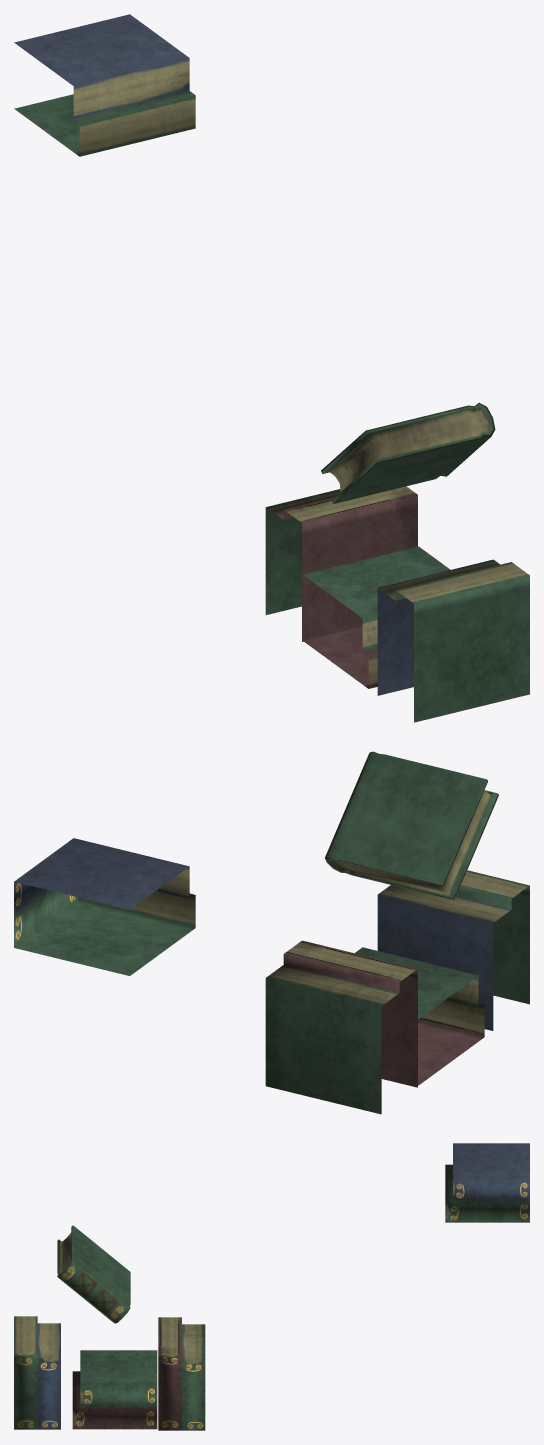
Rendered from BookCaseFill_C_01.fbx.
The picture shows the model from 3 angles, top to bottom: view 1: azimuth 30°, elevation 25°; view 2: azimuth 150°, elevation 25°; view 3: azimuth 270°, elevation 25°; orthographic projection. The views are drawn at different scales.
Parts seen in each view (by area): view 1: BookCaseFill_C_01; view 2: BookCaseFill_C_01; view 3: BookCaseFill_C_01.
Boxes of the visible parts, box(x1,y1,x2,y2) form: BookCaseFill_C_01: box(14, 14, 529, 722); BookCaseFill_C_01: box(14, 751, 529, 1114); BookCaseFill_C_01: box(14, 1143, 529, 1430).
Size of the model in its own units: 26.03 by 79.67 by 149.
